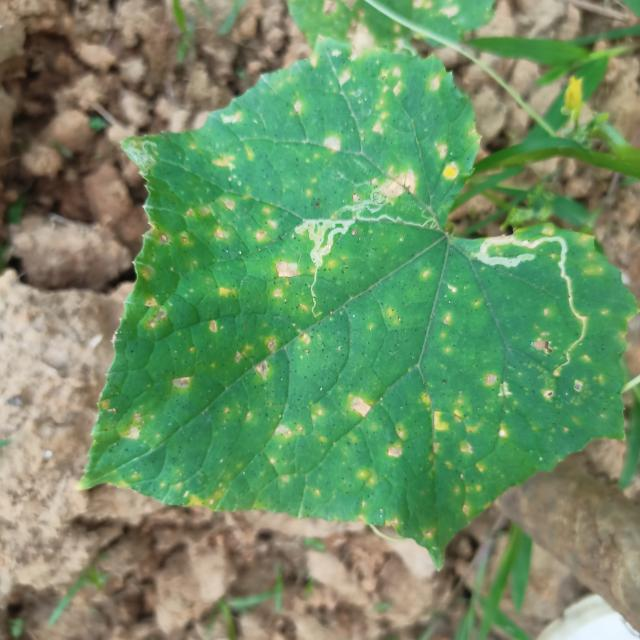disease_cucumber: (115, 62, 606, 521)
